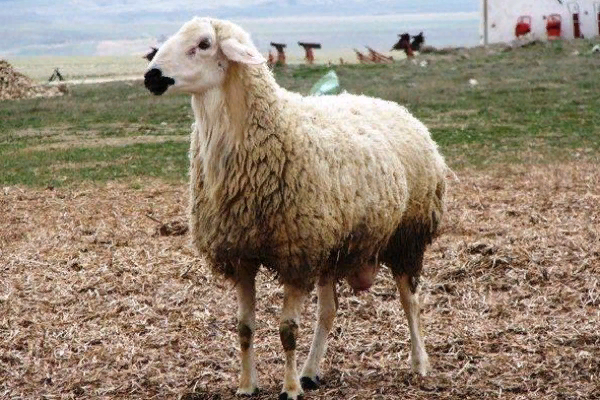sheep: (140, 14, 455, 392)
